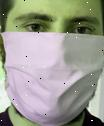with_mask: (2, 1, 104, 126)
